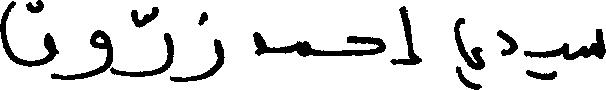X: (0, 0, 56, 83), (137, 2, 173, 85), (191, 7, 223, 85), (454, 13, 484, 89), (399, 1, 420, 69), (89, 25, 113, 81), (348, 31, 383, 60), (584, 24, 605, 63), (499, 25, 516, 60), (296, 36, 318, 61), (252, 27, 264, 60), (559, 38, 568, 64)
